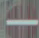No entry: (4, 3, 37, 37)
